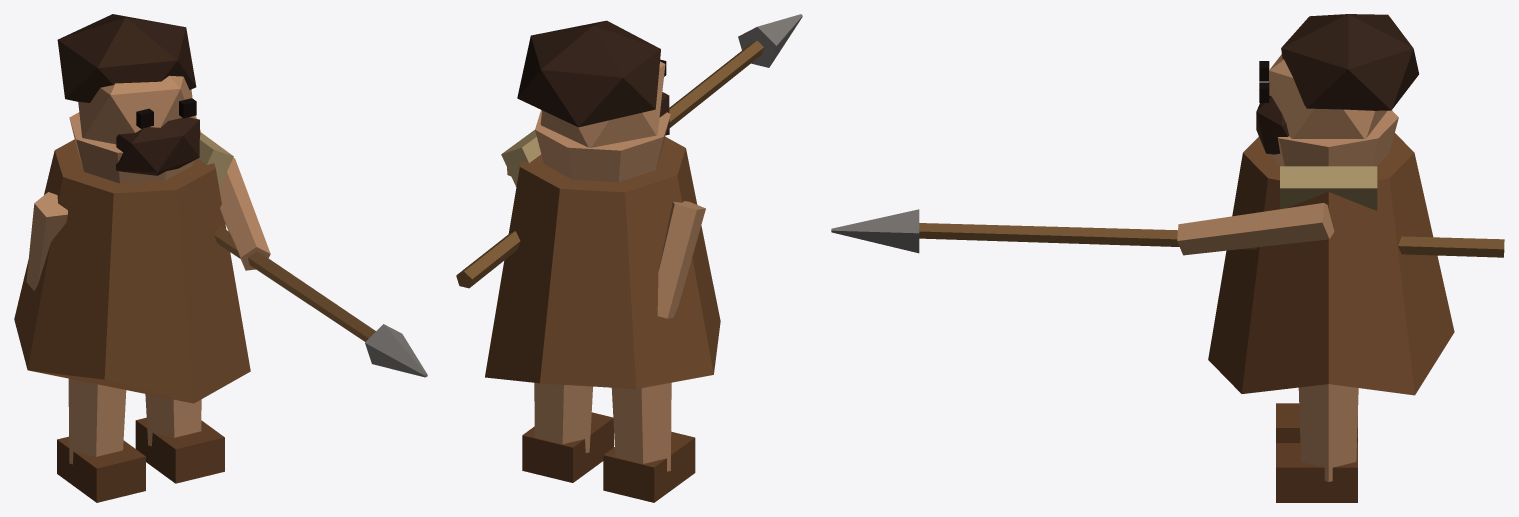
File: caveman_thrust.glb
3 renders of one model, left to right at view 1: azimuth 30°, elevation 25°; view 2: azimuth 150°, elevation 25°; view 3: azimuth 270°, elevation 25°, orthographic. The views are drawn at different scales.
Visible parts, largest first — view 1: caveman_thrust; view 2: caveman_thrust; view 3: caveman_thrust.
Part boxes in pixels (bbox=[...]): caveman_thrust: bbox=[14, 14, 427, 502]; caveman_thrust: bbox=[456, 14, 802, 502]; caveman_thrust: bbox=[831, 14, 1504, 502].
Bounding box in the file's own units: 1.28 × 2.58 × 3.45.
